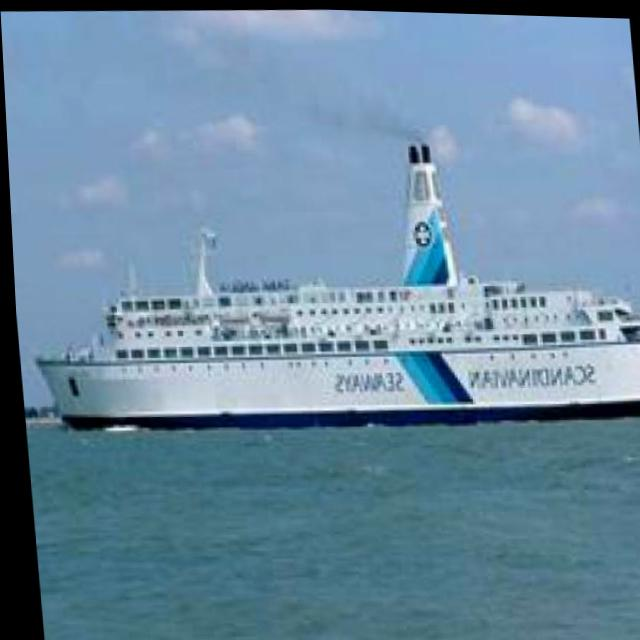ship2: (30, 139, 640, 433)
